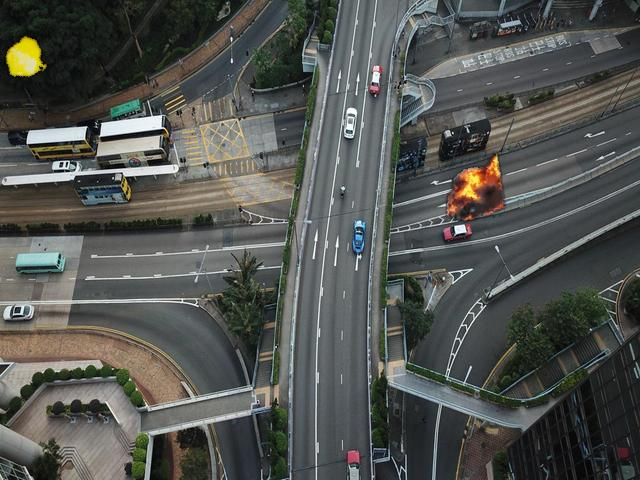fire: (444, 154, 506, 221), (4, 35, 48, 79)
